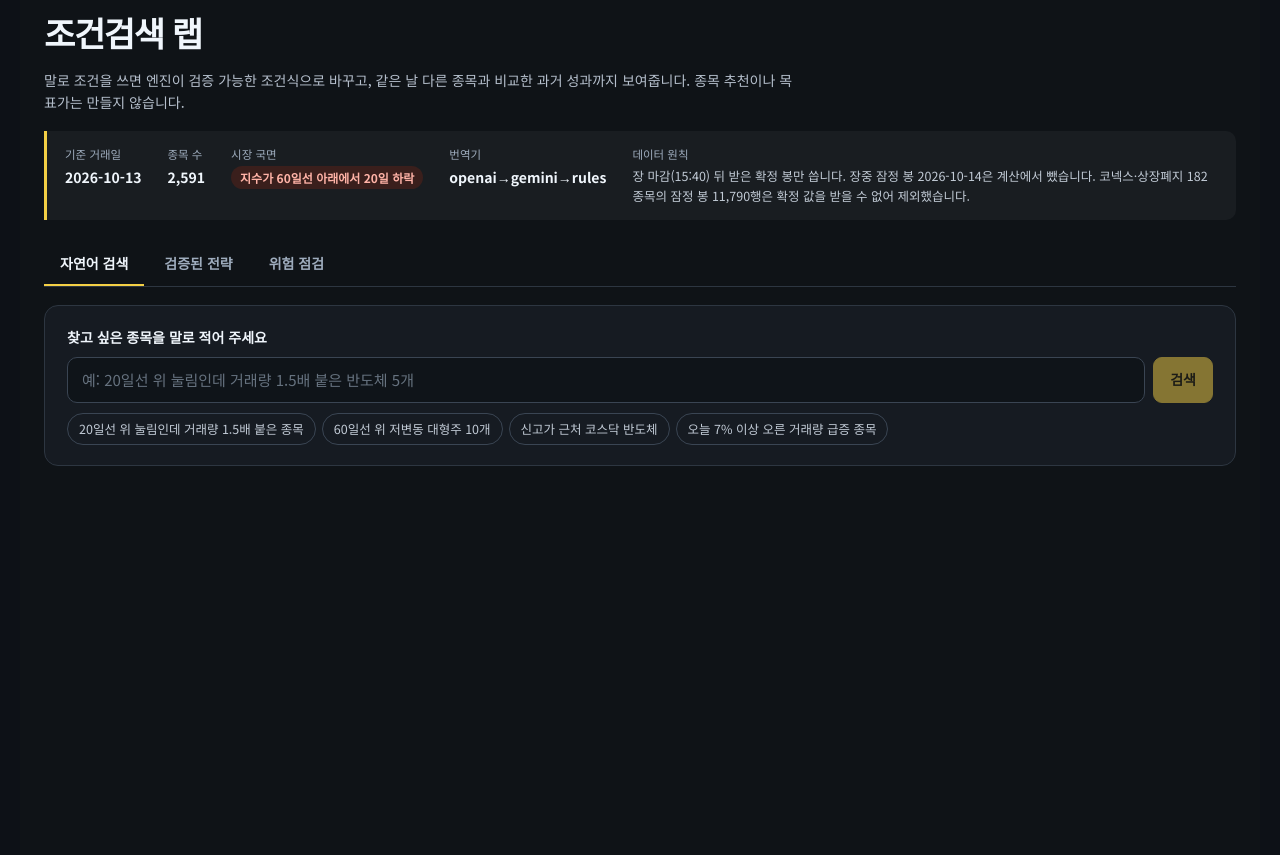
Test: condition lab › translates, screens and explains what it assumed and refused
This screenshot has width=1280, height=855.
Expected: the text "지수가 60일선 아래에서 20일 하락" is shown, [231,166,423,189]
Type "외국인 순매수 20일선 위 눌림" into the field labelled "찾고 싶은 종목을 말로 적어 주세요" at (606, 380), box [67,356,1145,402]
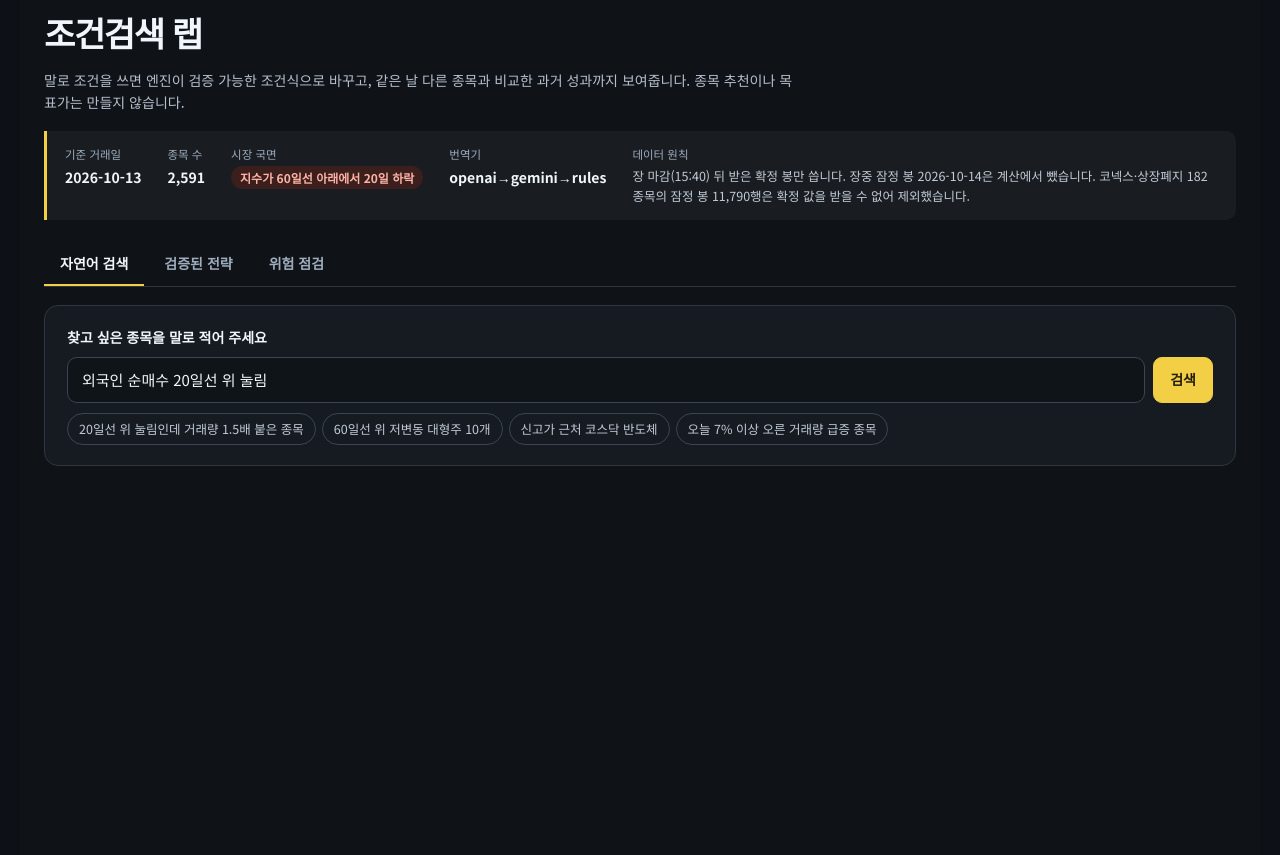
Click the button "검색" at (1183, 380), box [1153,356,1213,402]
(page scrolled)
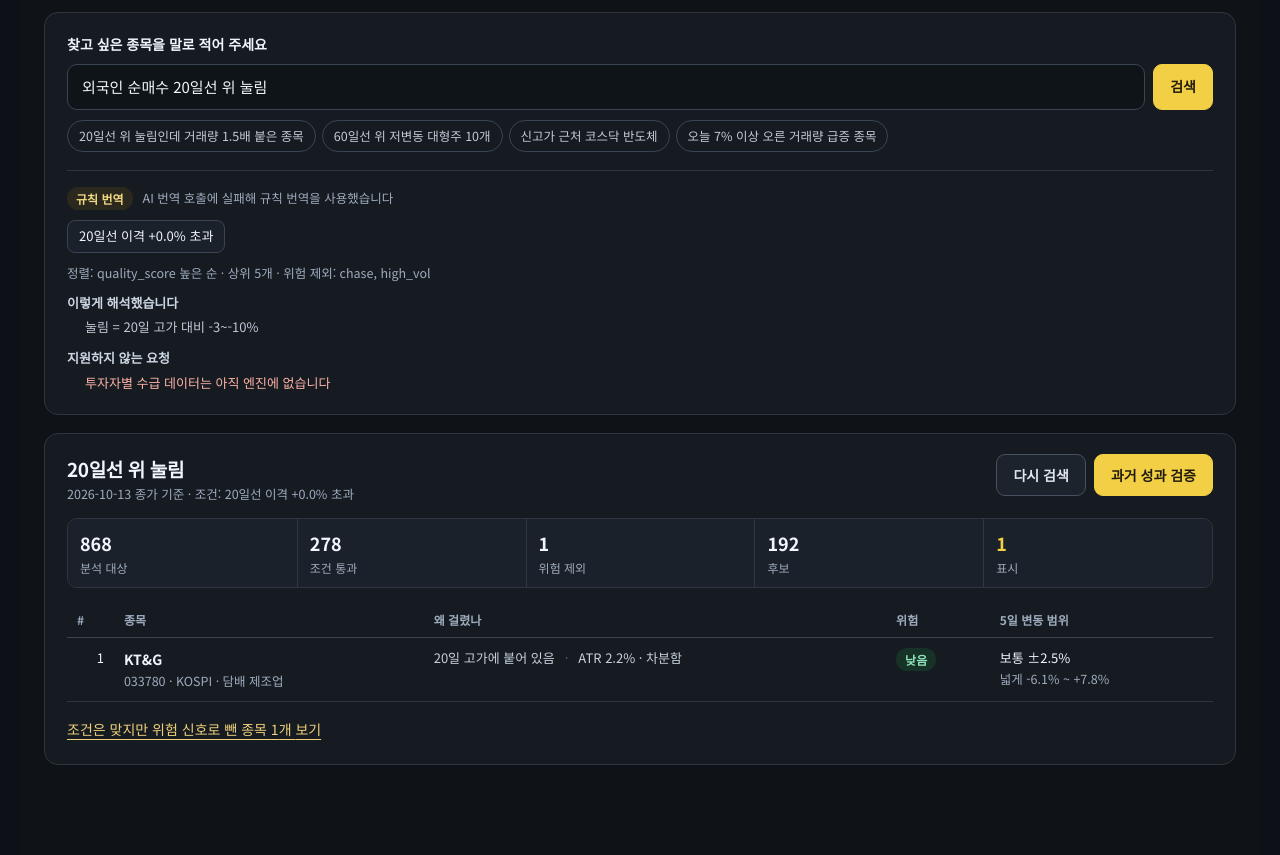
Expected: the text "KT&G" is shown, [124,649,162,669]
Expected: the element named "조건 번역 결과" shows "규칙 번역", [76,190,124,206]
Expected: the element named "조건 번역 결과" shows "AI 번역 호출에 실패", [142,188,393,207]
Click the button "조건은 맞지만 위험 신호로 뺀 종목 1개 보기" at (194, 729), box [67,714,321,744]
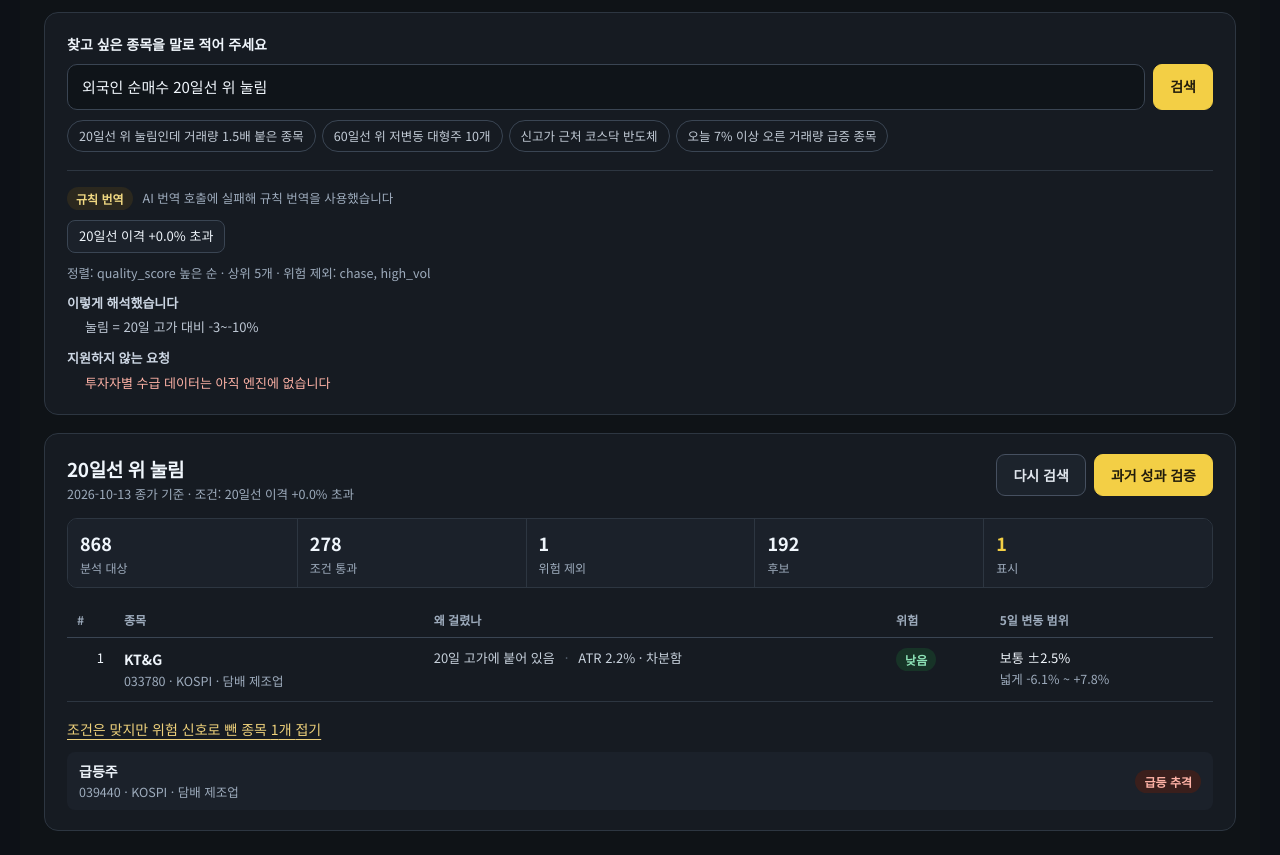
Expected: the text "급등주" is shown, [79,761,118,781]
